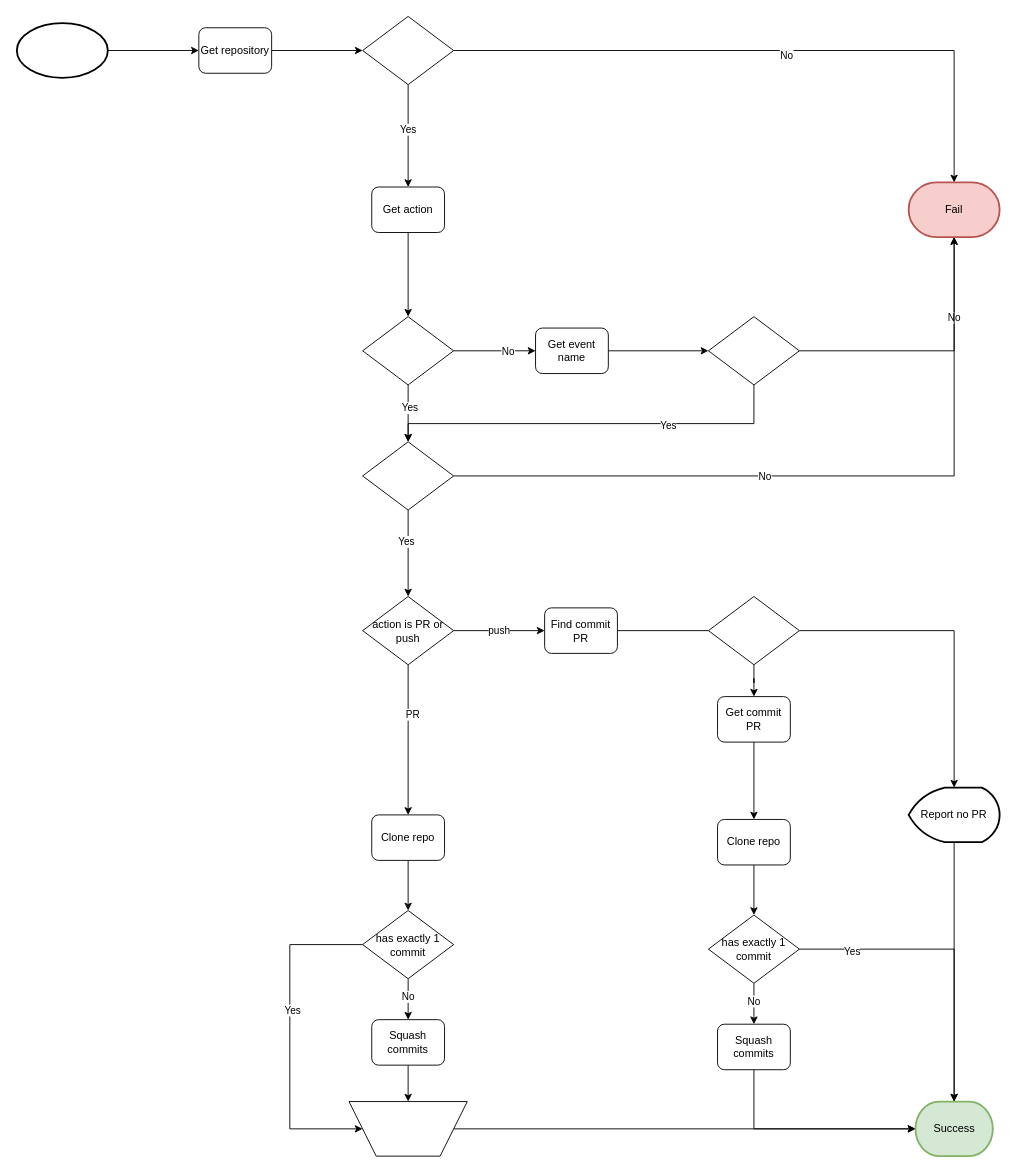
The diagram is 1016 pixels wide and 1172 high, and some of its shapes have lost their labels. The shapes that lost their labels are listed below. From the top down, each one's box as (x1, y1, x2, y2) in pixels, then its label:
(15, 22, 108, 78): Action entrypoint
(362, 15, 454, 85): has repository
(362, 316, 454, 385): has action
(708, 316, 799, 385): has event name
(362, 441, 454, 510): is allowed action
(708, 596, 799, 665): has PR
(348, 1101, 467, 1156): Create backports
